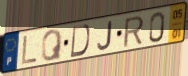0: (148, 10, 167, 44)
D: (69, 23, 91, 59)
J: (96, 19, 113, 51)
L: (21, 34, 39, 66)
Q: (41, 28, 64, 63)
R: (122, 14, 145, 49)
